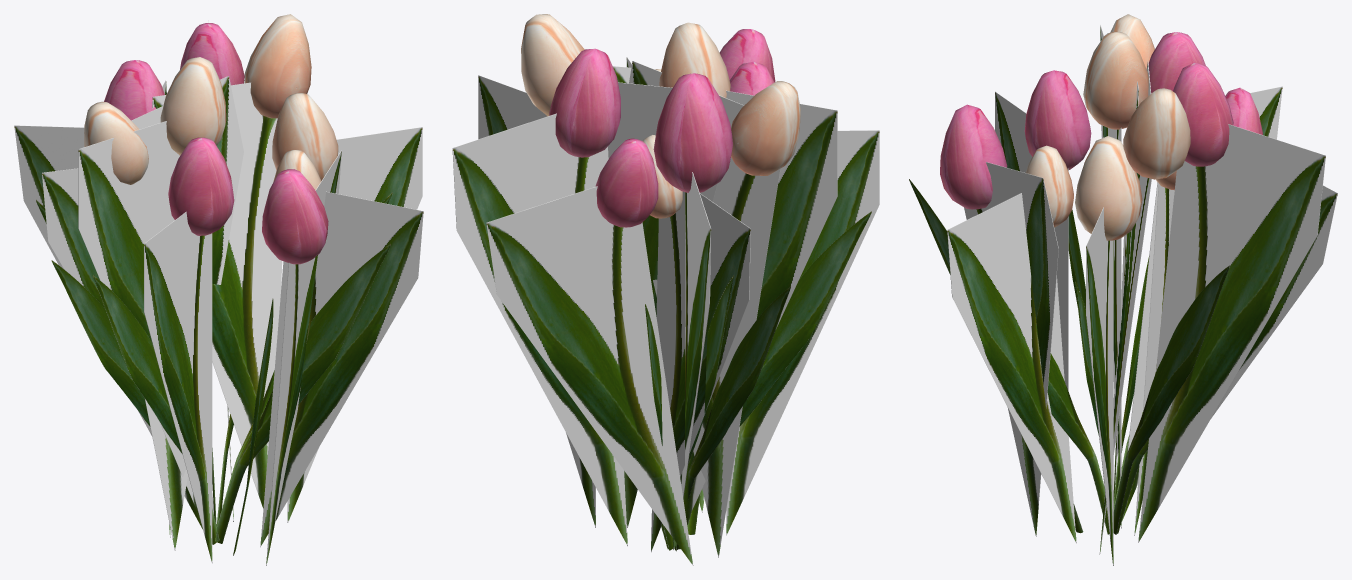
Rendered from tulip.fbx.
3 views of the same model, side by side, from view 1: azimuth 30°, elevation 25°; view 2: azimuth 150°, elevation 25°; view 3: azimuth 270°, elevation 25° (orthographic). The views are drawn at different scales.
Visible parts, largest first — view 1: 球.006; view 2: 球.006; view 3: 球.006.
Part boxes in pixels (left/top/right/bottom): 球.006: left=14, top=14, right=423, bottom=565; 球.006: left=452, top=14, right=879, bottom=565; 球.006: left=909, top=14, right=1337, bottom=565.
Bounding box in the file's own units: 0.0301 × 0.0407 × 0.032.
4 materials, 4 textured.
